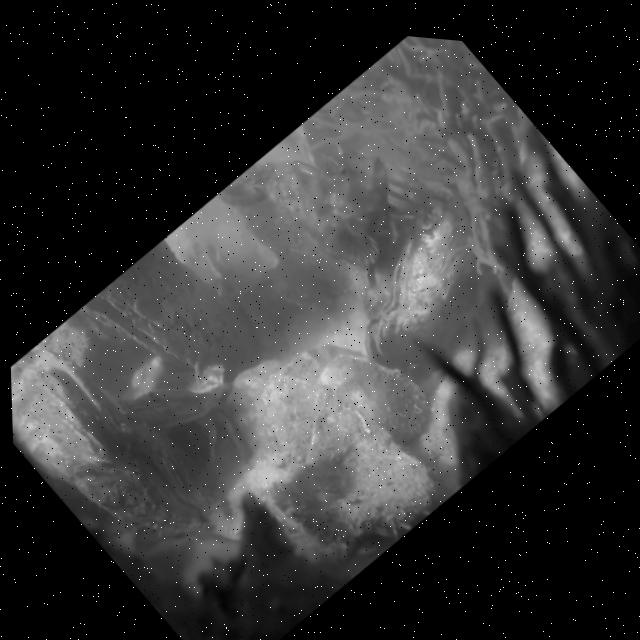Oyster-Closed: (11, 344, 221, 537), (361, 183, 486, 369)
Oyster-Indeterminate: (313, 352, 436, 446)
Oyster-Open: (75, 241, 260, 371)
